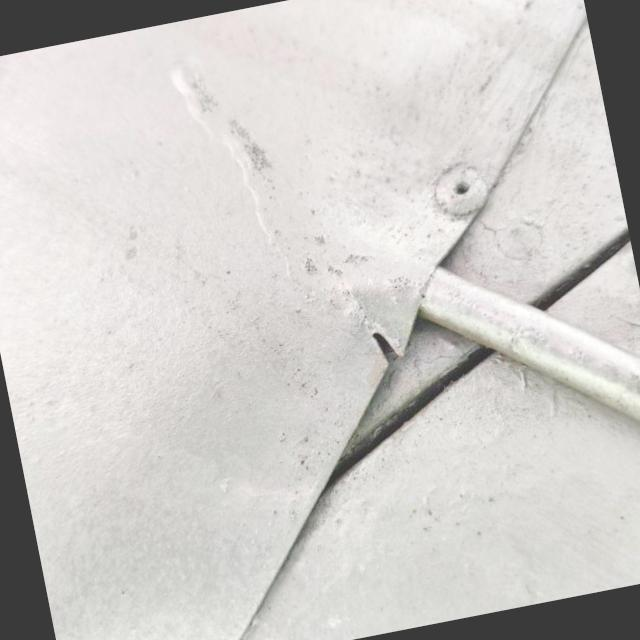crack: (342, 298, 426, 393)
